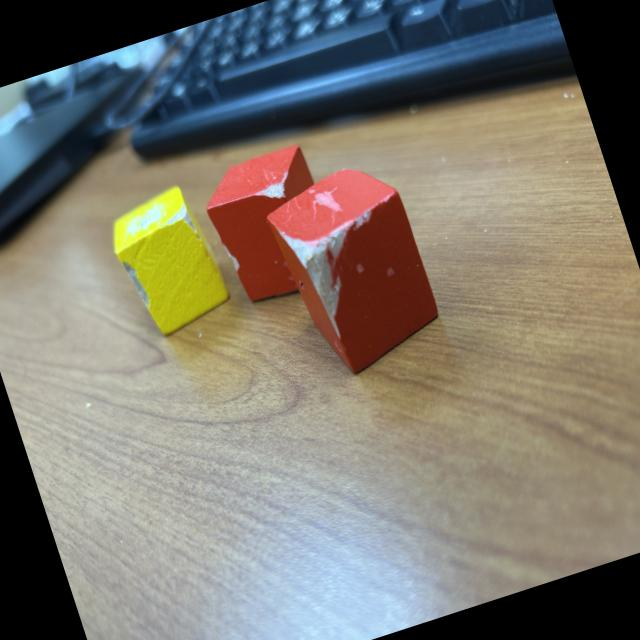broken: (259, 154, 450, 386), (196, 142, 346, 310), (100, 180, 237, 344)
